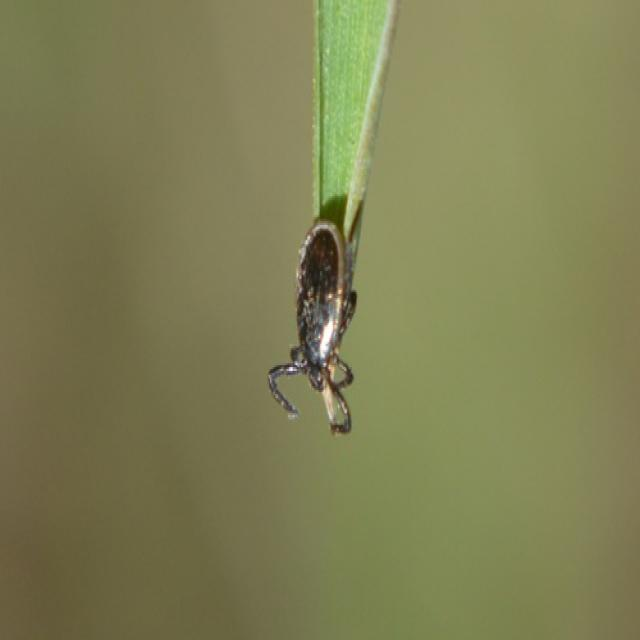Ixodes Ricinus-M: (268, 188, 365, 434)
